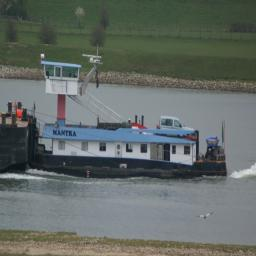tugboat: (28, 44, 231, 184)
